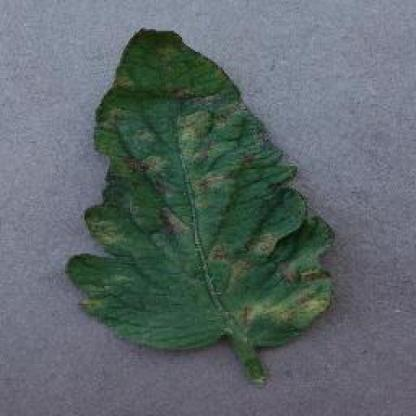Tomato_Leaf_Mold: (68, 26, 332, 338)
